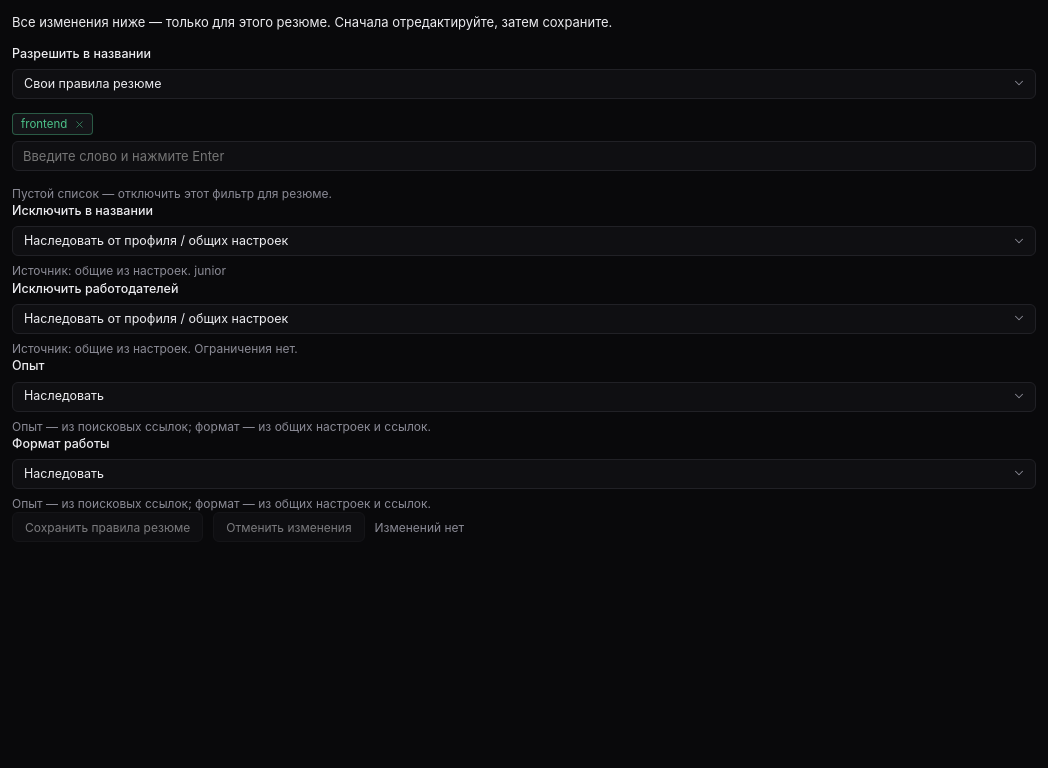
Test case: safe resume filter editing › two rapid word edits remain a draft and are submitted together once
Type "react" into the field with placeholder "Введите слово и нажмите Enter".
click(524, 156); type("react")  # box [12, 141, 1036, 171]
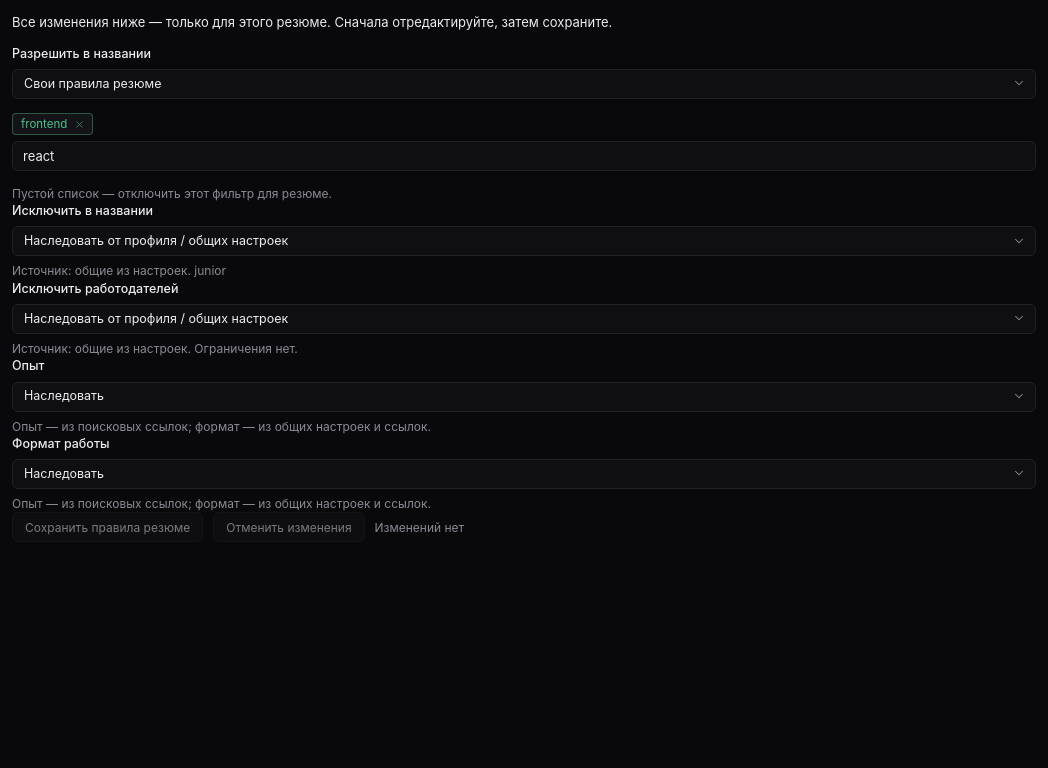
Press Enter in the field with placeholder "Введите слово и нажмите Enter", box [12, 141, 1036, 171]
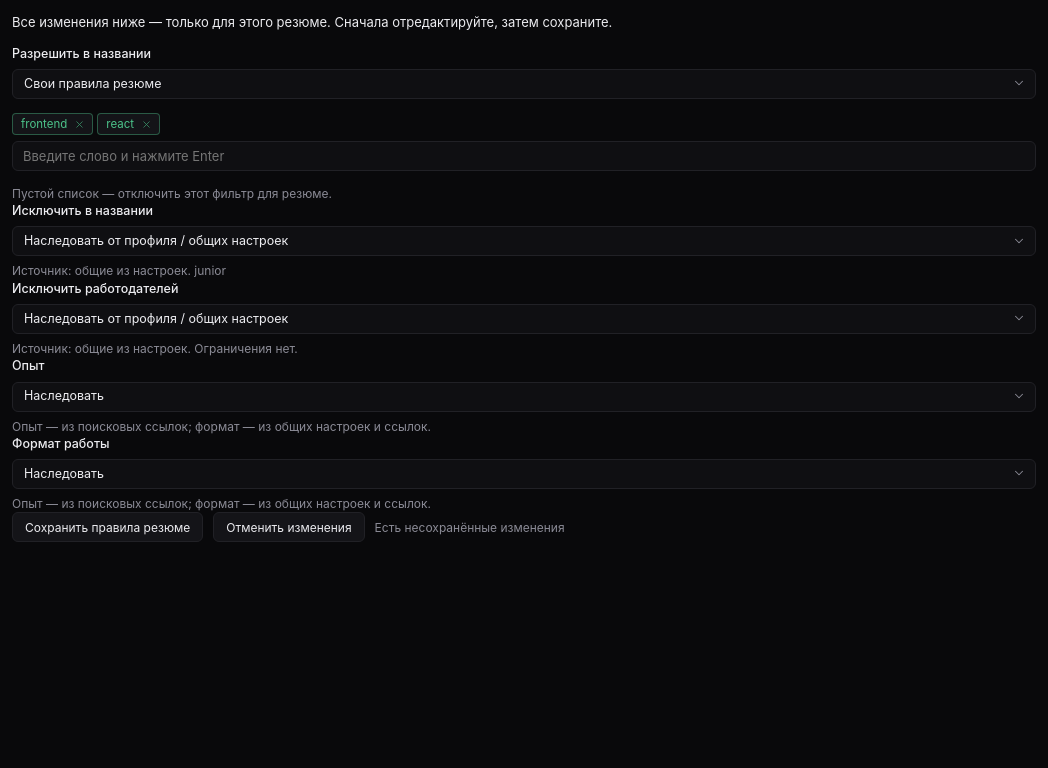
Type "next" into the field with placeholder "Введите слово и нажмите Enter".
click(524, 156); type("next")  # box [12, 141, 1036, 171]
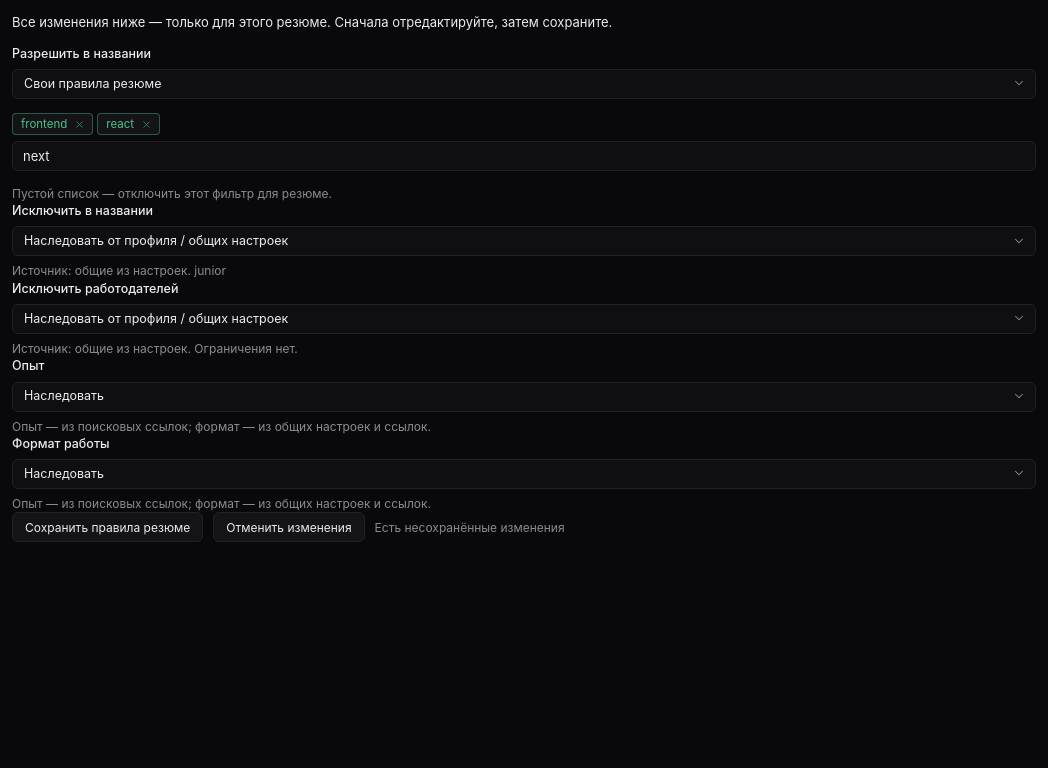
Press Enter in the field with placeholder "Введите слово и нажмите Enter", box [12, 141, 1036, 171]
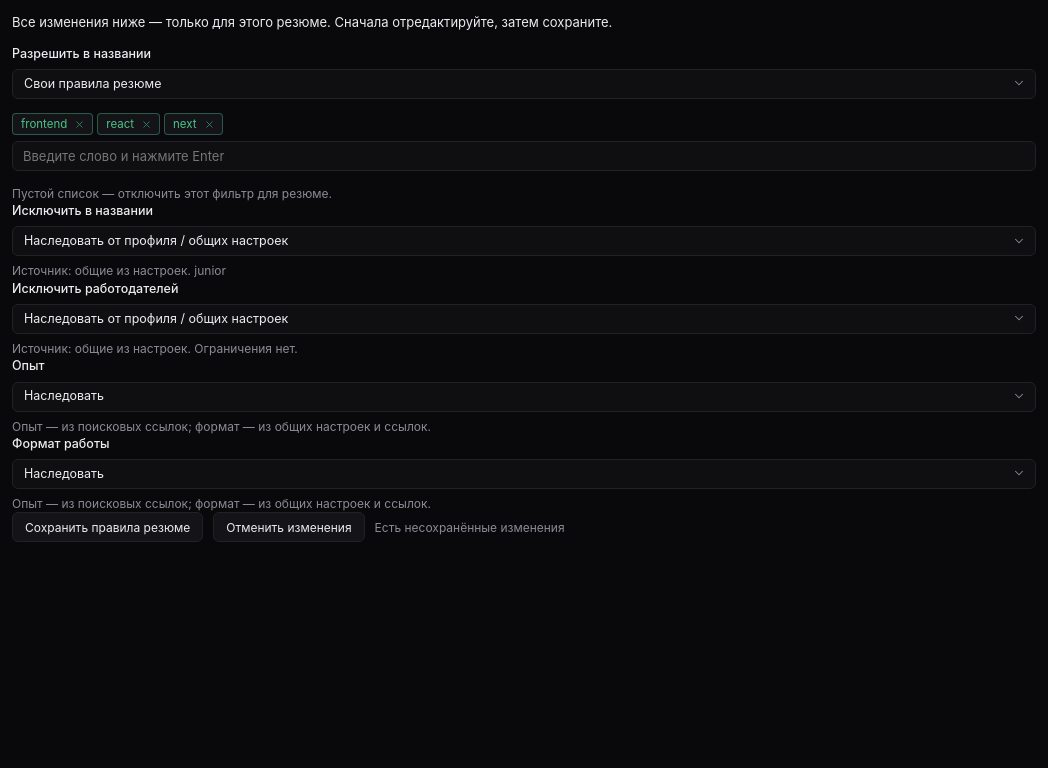
Click the button "Сохранить правила резюме".
click(108, 527)  # box [12, 512, 203, 542]
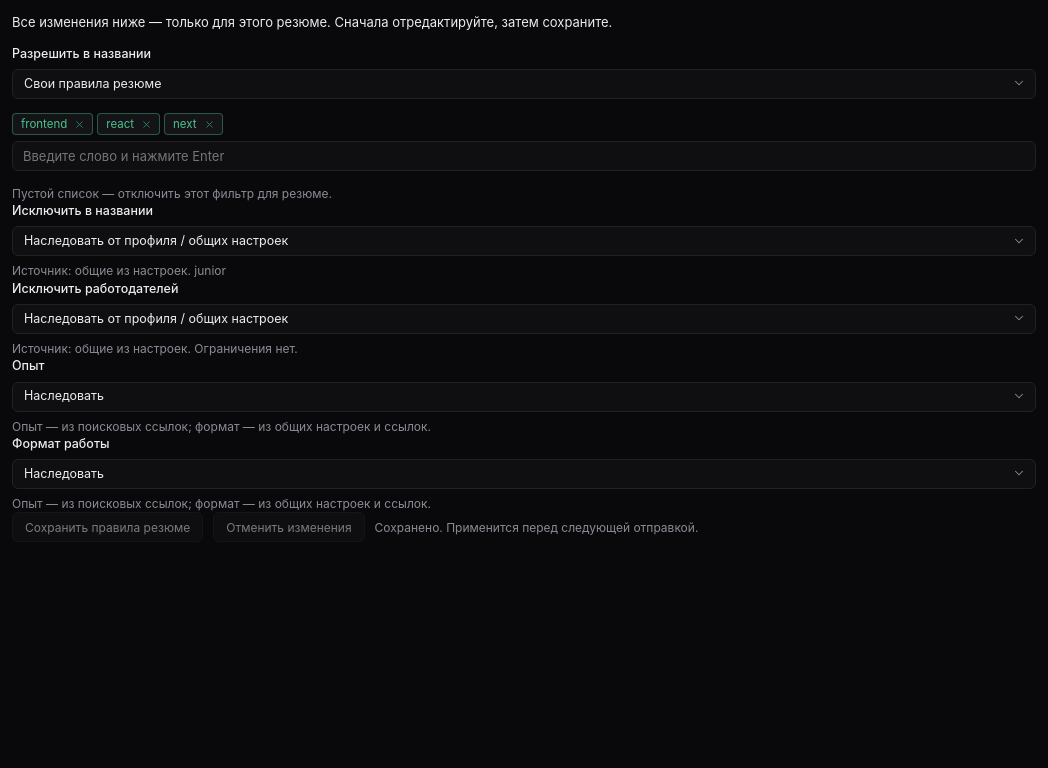
Result: the text "next" is shown at [164, 113, 222, 135]
Result: the text "Сохранено. Применится перед следующей отправкой." is shown at [375, 519, 698, 536]
